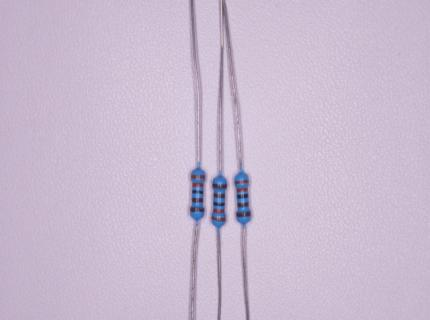Black band: (192, 190, 203, 195), (213, 202, 225, 206), (237, 194, 248, 198)
Brown band: (190, 207, 204, 212), (237, 212, 250, 217), (213, 193, 225, 198), (212, 184, 226, 188), (192, 198, 203, 203), (238, 202, 249, 207)
Orange band: (212, 216, 225, 221), (191, 175, 205, 179), (237, 187, 248, 192), (235, 180, 248, 184), (192, 183, 203, 187), (213, 209, 224, 213)
